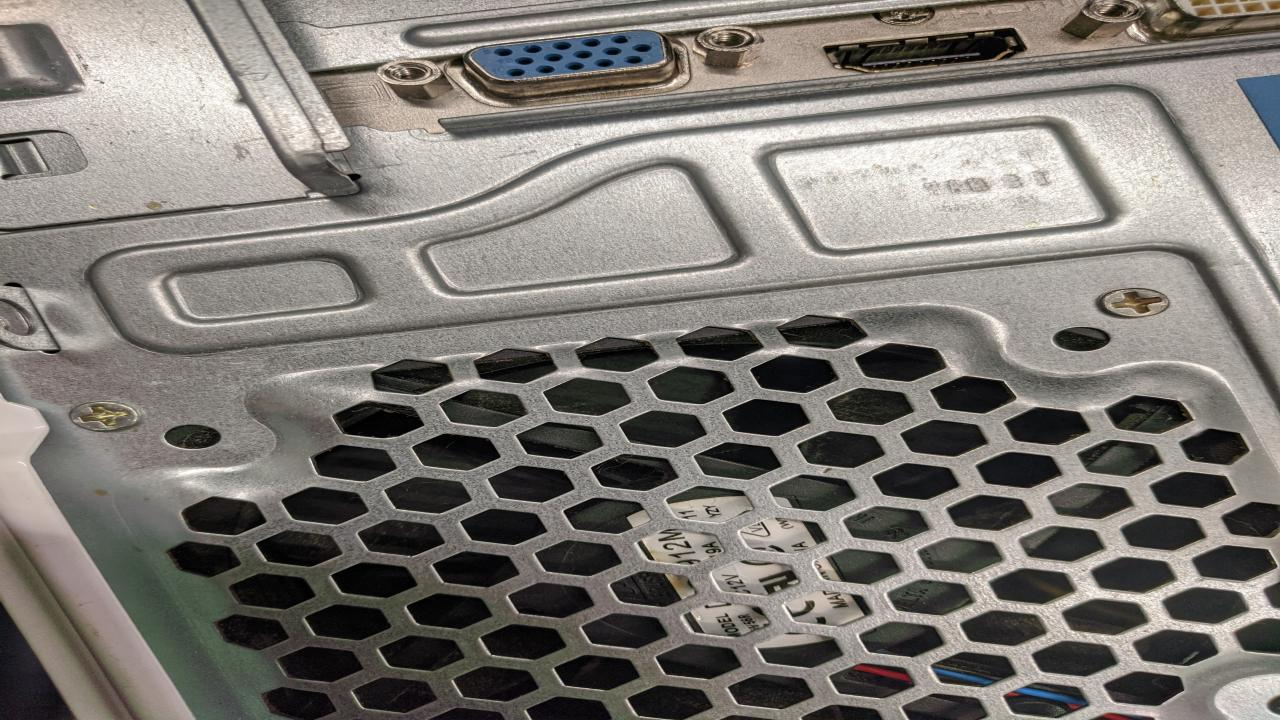CRS: (64, 401, 144, 434), (1095, 288, 1174, 320)
